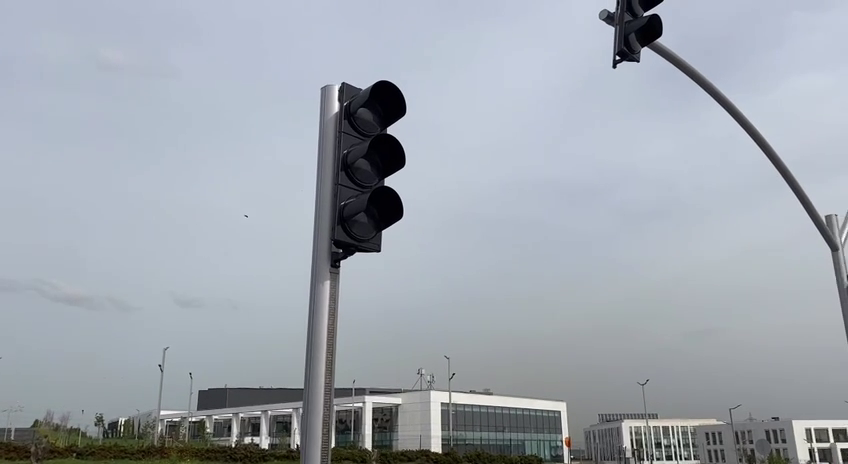trafficLight: (313, 77, 409, 265), (609, 1, 666, 73)
